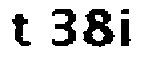3: (47, 6, 75, 49)
8: (81, 5, 116, 48)
i: (119, 6, 140, 51)
t: (9, 9, 36, 49)
